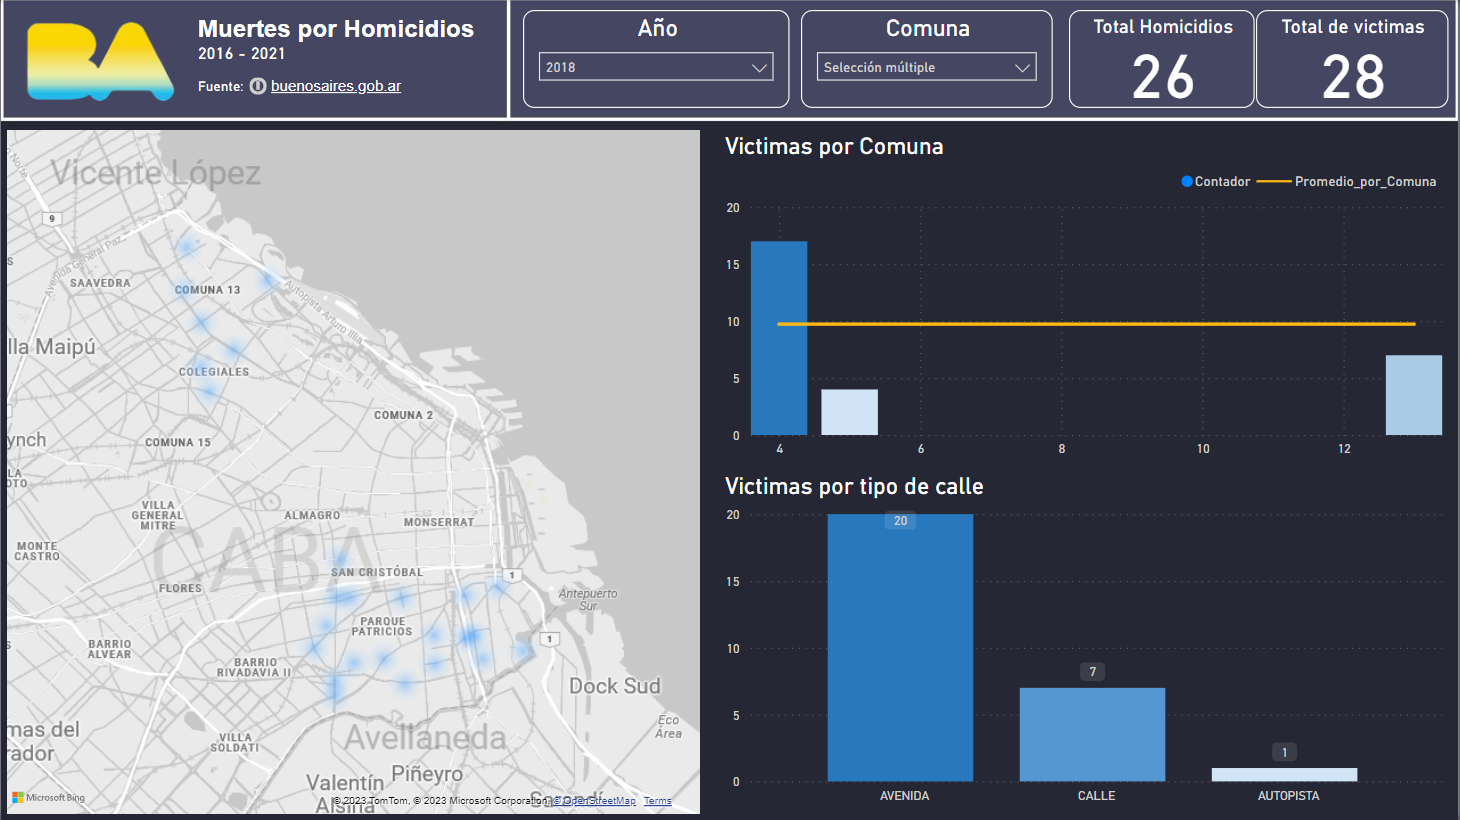

What the dashboard file says about the page in this screenshot:
{"tool":"powerbi","page":{"name":"Ubicacion","canvas":[1280,720],"ordinal":2},"visuals":[{"type":"map","fields":{"Y":["homicidios.latitud"],"X":["homicidios.longitud"]},"box":[0,108.9,619,611.1],"z":0},{"type":"slicer","title":"Comuna","fields":{"Values":["homicidios.comuna"]},"box":[702.4,8.8,221.3,86],"z":1000},{"type":"columnChart","title":"Victimas por tipo de calle","fields":{"Category":["homicidios.tipo_calle"],"Y":["CountNonNull(homicidios.tipo_calle)"]},"box":[630.4,414.4,640.1,297.7],"z":2000},{"type":"card","title":"Total de victimas","fields":{"Values":["homicidios.Contador"]},"box":[1102,8.8,168.6,86],"z":3000},{"type":"card","title":"Total Homicidios","fields":{"Values":["Count(homicidios.ID)"]},"box":[937.8,8.8,163.3,86],"z":4000},{"type":"lineClusteredColumnComboChart","title":"Victimas por Comuna","fields":{"Category":["homicidios.comuna"],"Y":["homicidios.Contador"],"Y2":["homicidios.Promedio_por_Comuna"]},"box":[630.4,115.9,640.1,292.4],"z":5000},{"type":"slicer","title":"Año","fields":{"Values":["homicidios.fecha.Variación.Jerarquía de fechas.Año"]},"box":[458.3,8.8,234.4,86],"z":6000},{"type":"textbox","box":[167.7,8.8,265.2,89.6],"z":7000},{"type":"image","box":[17.6,9.7,140.5,88.7],"z":8000},{"type":"actionButton","box":[214.2,64.1,150.1,22.8],"z":9000}]}

Visuals, with their boxes in screenshot pixels (x1, y1, x2, y2), scaled from the page's 1280x720 canvas onto the 1460x820 screenshot:
map - homicidios.latitud x homicidios.longitud: locate(0, 124, 706, 819)
"Comuna" slicer: locate(801, 10, 1054, 108)
"Victimas por tipo de calle" columnChart: locate(719, 472, 1449, 811)
"Total de victimas" card: locate(1257, 10, 1449, 108)
"Total Homicidios" card: locate(1070, 10, 1256, 108)
"Victimas por Comuna" lineClusteredColumnComboChart: locate(719, 132, 1449, 465)
"Año" slicer: locate(523, 10, 790, 108)
textbox: locate(191, 10, 494, 112)
image: locate(20, 11, 180, 112)
actionButton: locate(244, 73, 416, 99)
